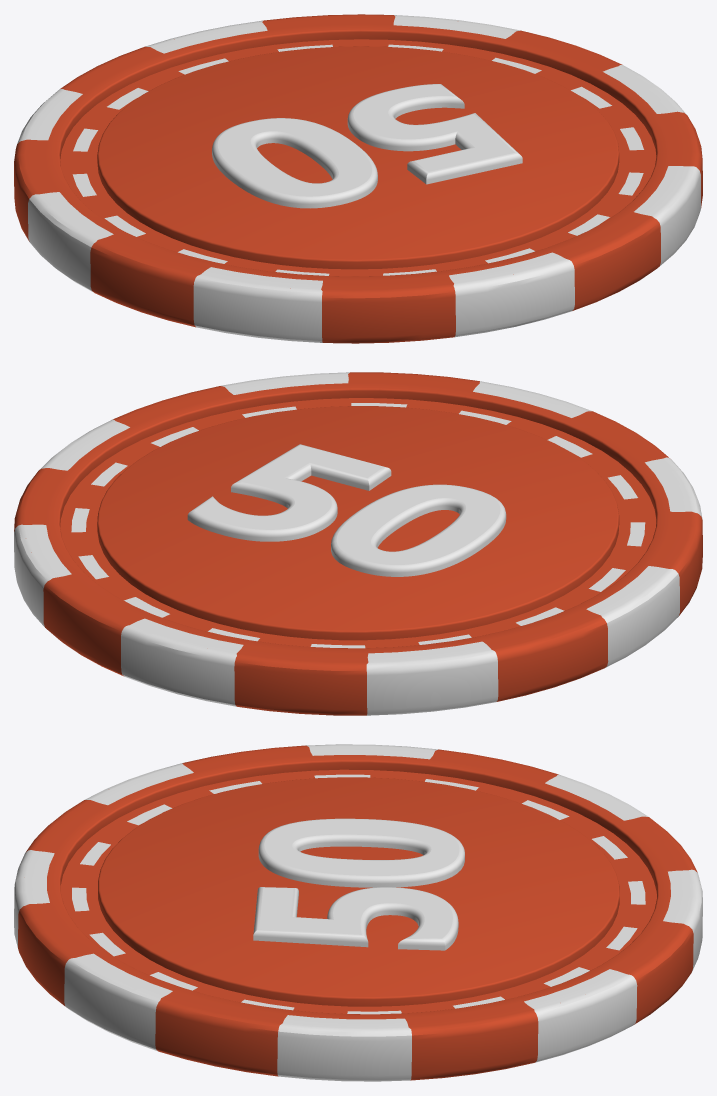
The picture shows the model from 3 angles, top to bottom: view 1: azimuth 30°, elevation 25°; view 2: azimuth 150°, elevation 25°; view 3: azimuth 270°, elevation 25°; orthographic projection.
Parts seen in each view (by area): view 1: Mesh_1005_1, Mesh_1005, Mesh_1005_2; view 2: Mesh_1005_1, Mesh_1005, Mesh_1005_2; view 3: Mesh_1005_1, Mesh_1005, Mesh_1005_2.
Part boxes in pixels (bbox=[...]): Mesh_1005_1: bbox=[14, 14, 702, 343]; Mesh_1005: bbox=[17, 15, 700, 342]; Mesh_1005_2: bbox=[212, 84, 522, 208]; Mesh_1005_1: bbox=[14, 372, 702, 715]; Mesh_1005: bbox=[14, 372, 702, 715]; Mesh_1005_2: bbox=[187, 444, 506, 576]; Mesh_1005_1: bbox=[18, 745, 697, 1080]; Mesh_1005: bbox=[14, 744, 702, 1081]; Mesh_1005_2: bbox=[253, 818, 464, 950].
Bounding box in the file's own units: 0.0802 × 0.00944 × 0.0802.
